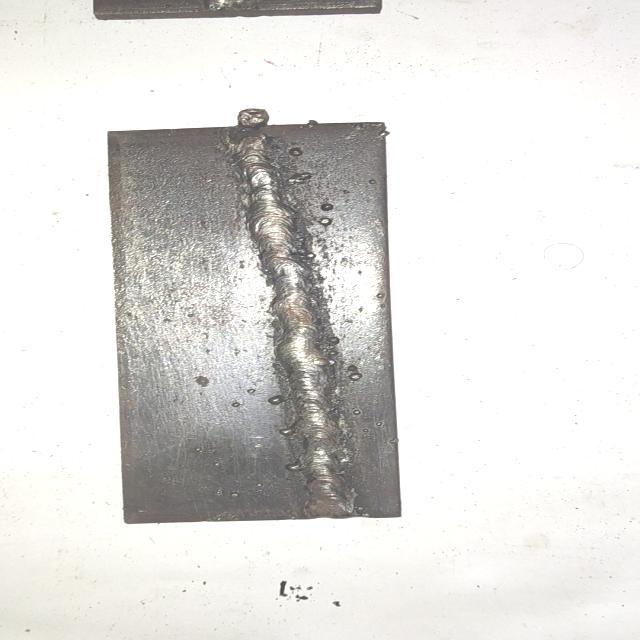Welding Line: (226, 130, 353, 512)
Workpiece: (100, 116, 410, 526)
